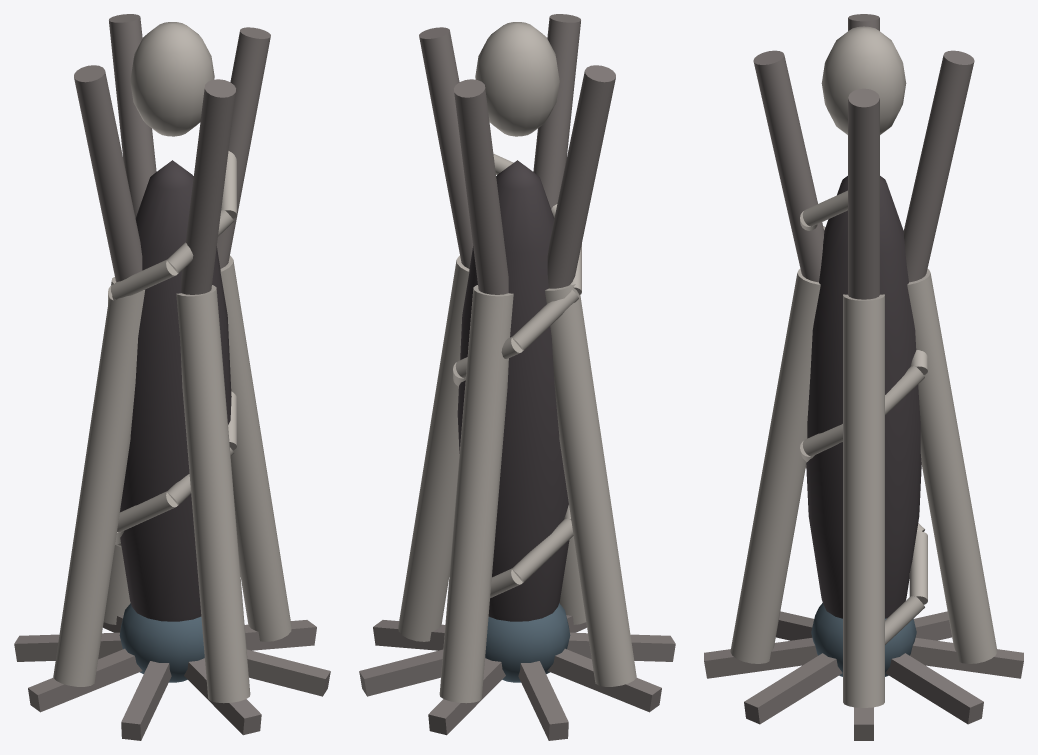
The model's file is CMU3DHiveCMU14PathogenPylonConstructionNode.glb.
3 views of the same model, side by side, from view 1: azimuth 30°, elevation 25°; view 2: azimuth 150°, elevation 25°; view 3: azimuth 270°, elevation 25° (orthographic).
Parts seen in each view (by area): view 1: curved lower prong (×4), central resin stalk, upper prong (×4), anchoring root (×6), pylon crown, construction bud, spiral pylon ridge (×4); view 2: curved lower prong (×4), upper prong (×4), central resin stalk, anchoring root (×6), pylon crown, construction bud, spiral pylon ridge (×3); view 3: curved lower prong (×3), central resin stalk, upper prong (×3), anchoring root (×7), pylon crown, spiral pylon ridge (×5), construction bud.
Boxes of the visible parts, left/top/right/bottom form: curved lower prong (×4): left=53, top=255, right=291, bottom=703; central resin stalk: left=120, top=160, right=231, bottom=621; upper prong (×4): left=74, top=14, right=270, bottom=294; anchoring root (×6): left=14, top=620, right=330, bottom=740; pylon crown: left=130, top=22, right=214, bottom=136; construction bud: left=119, top=603, right=204, bottom=682; spiral pylon ridge (×4): left=111, top=151, right=236, bottom=532; curved lower prong (×4): left=398, top=255, right=636, bottom=703; upper prong (×4): left=419, top=14, right=615, bottom=294; central resin stalk: left=457, top=160, right=569, bottom=621; anchoring root (×6): left=359, top=620, right=675, bottom=740; pylon crown: left=475, top=22, right=559, bottom=136; construction bud: left=485, top=603, right=570, bottom=682; spiral pylon ridge (×3): left=490, top=290, right=578, bottom=598; curved lower prong (×3): left=730, top=269, right=997, bottom=707; central resin stalk: left=806, top=176, right=921, bottom=618; upper prong (×3): left=753, top=50, right=974, bottom=299; anchoring root (×7): left=704, top=611, right=1023, bottom=740; pylon crown: left=821, top=26, right=906, bottom=134; spiral pylon ridge (×5): left=802, top=190, right=927, bottom=644; construction bud: left=811, top=603, right=916, bottom=676.
Size of the model in its own units: 0.9085 by 2.03 by 0.9085.
